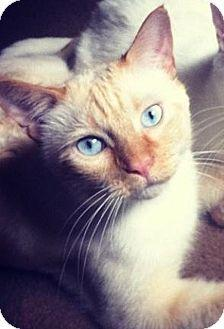siamese: (1, 8, 207, 225)
